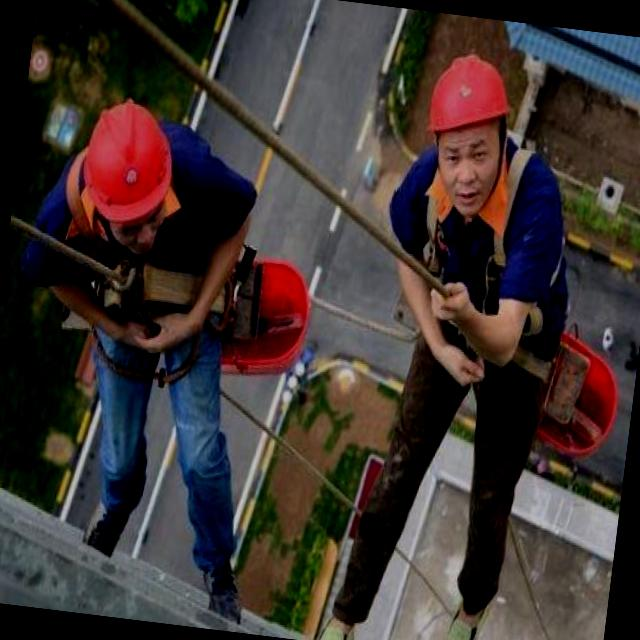helmet: (75, 90, 186, 234), (415, 49, 523, 158)
